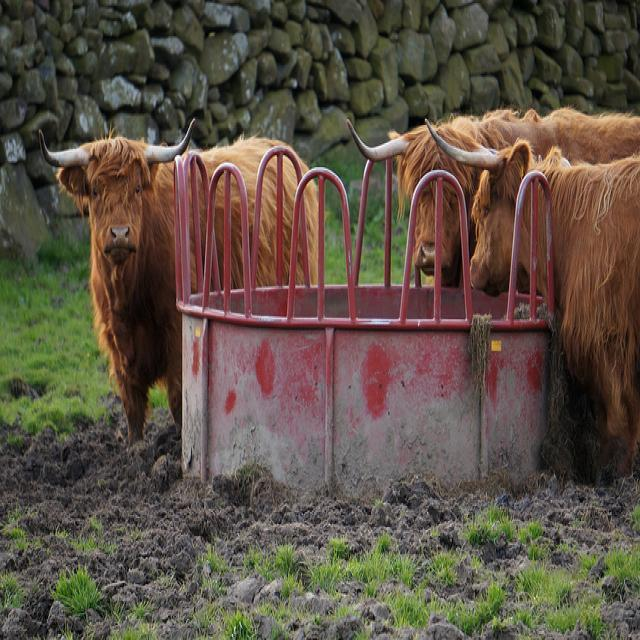cow: (38, 115, 317, 442), (421, 114, 638, 473), (344, 103, 639, 286)
